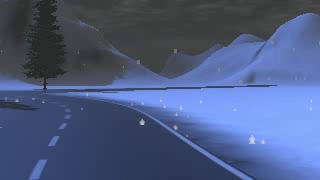Lane: (0, 90, 253, 179)
